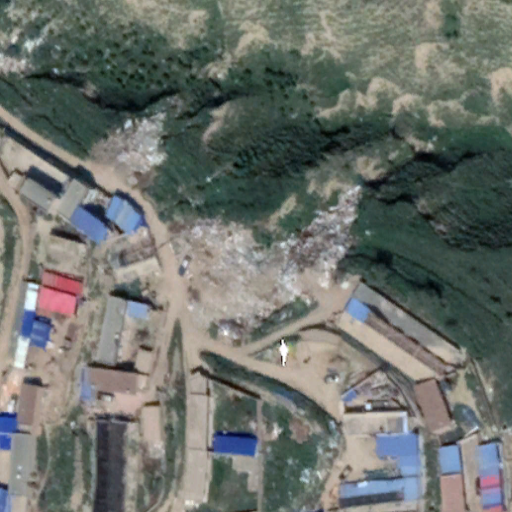msw: (183, 186, 363, 332)
